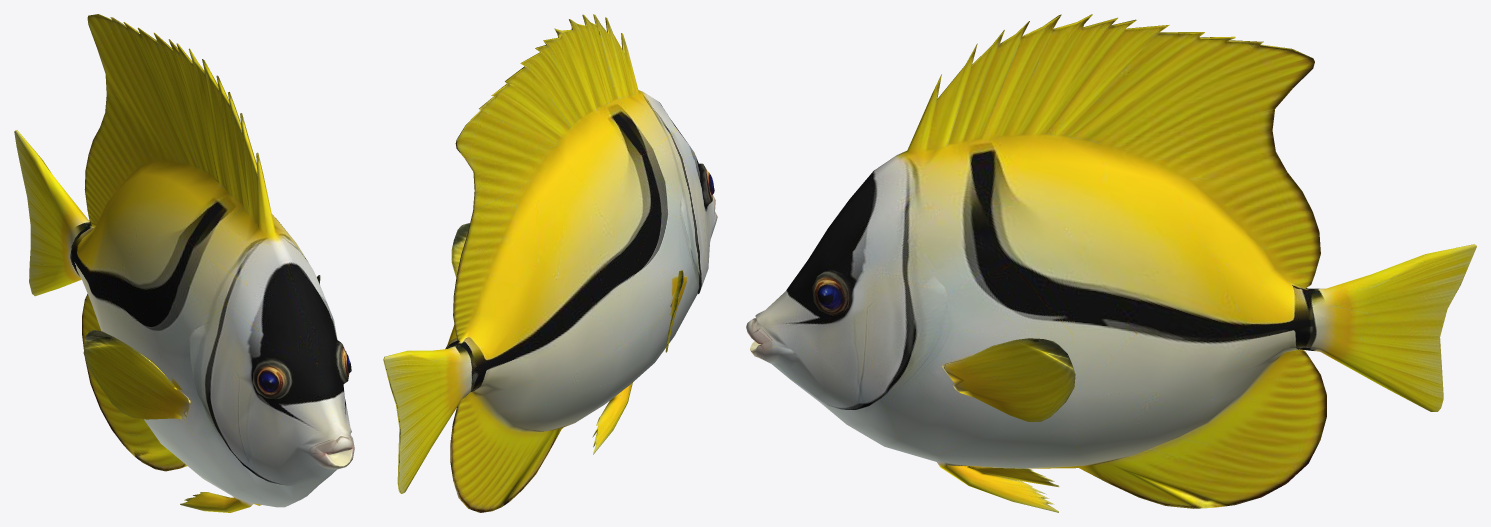
The model's file is butterflyfish.glb.
3 renders of one model, left to right at view 1: azimuth 30°, elevation 25°; view 2: azimuth 150°, elevation 25°; view 3: azimuth 270°, elevation 25°, orthographic. The views are drawn at different scales.
Size of the model in its own units: 0.3843 by 0.7153 by 0.9585.
1 material, 1 textured.
